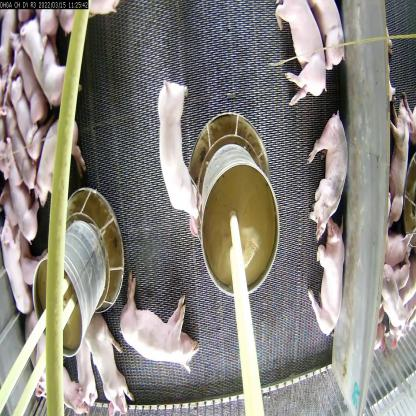Pig: (116, 278, 204, 376), (153, 76, 202, 228), (265, 0, 328, 103), (304, 109, 353, 239), (304, 213, 348, 335), (33, 116, 89, 205), (20, 23, 77, 101), (84, 318, 130, 413), (0, 142, 37, 235), (308, 0, 348, 72), (0, 221, 27, 316)
